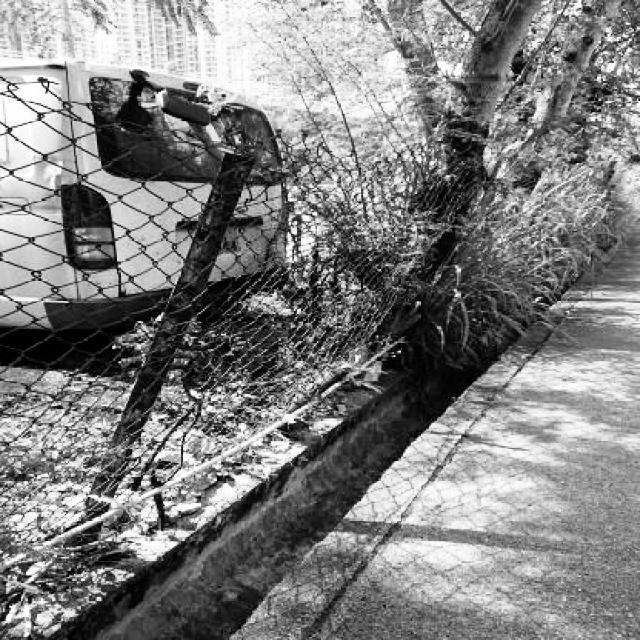anomaly-fence: (175, 82, 518, 510)
